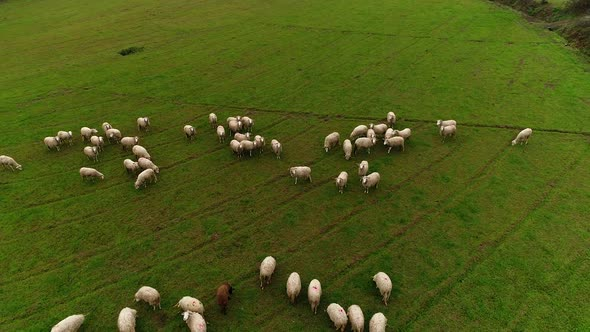sheep: (48, 311, 87, 332), (371, 271, 393, 306), (259, 255, 278, 291), (324, 302, 347, 331), (306, 277, 323, 315), (134, 287, 162, 310), (175, 296, 205, 317), (345, 304, 367, 332), (284, 271, 303, 303), (217, 282, 235, 314), (116, 306, 138, 332), (135, 167, 157, 191), (353, 134, 376, 156), (359, 171, 381, 194), (181, 311, 205, 332), (289, 165, 312, 185), (368, 311, 389, 332), (383, 135, 405, 155), (323, 131, 342, 154), (1, 155, 23, 174), (512, 127, 532, 147), (334, 171, 350, 195), (138, 158, 160, 175), (80, 166, 103, 182), (44, 134, 62, 153), (439, 124, 459, 141), (228, 139, 244, 159), (368, 122, 388, 138), (241, 139, 259, 156), (349, 124, 367, 141), (393, 126, 412, 142), (356, 160, 371, 180), (133, 144, 151, 160), (80, 127, 99, 142), (437, 118, 457, 132), (271, 138, 284, 158), (83, 146, 100, 161), (107, 127, 122, 144), (124, 158, 139, 175), (120, 136, 138, 150), (229, 120, 243, 138), (253, 135, 266, 154), (58, 130, 73, 146), (136, 116, 151, 132), (225, 115, 241, 130), (184, 124, 198, 141), (342, 139, 353, 160), (242, 115, 254, 132), (90, 135, 104, 149), (386, 111, 397, 127), (217, 125, 227, 142), (101, 122, 112, 136), (209, 111, 219, 126)
